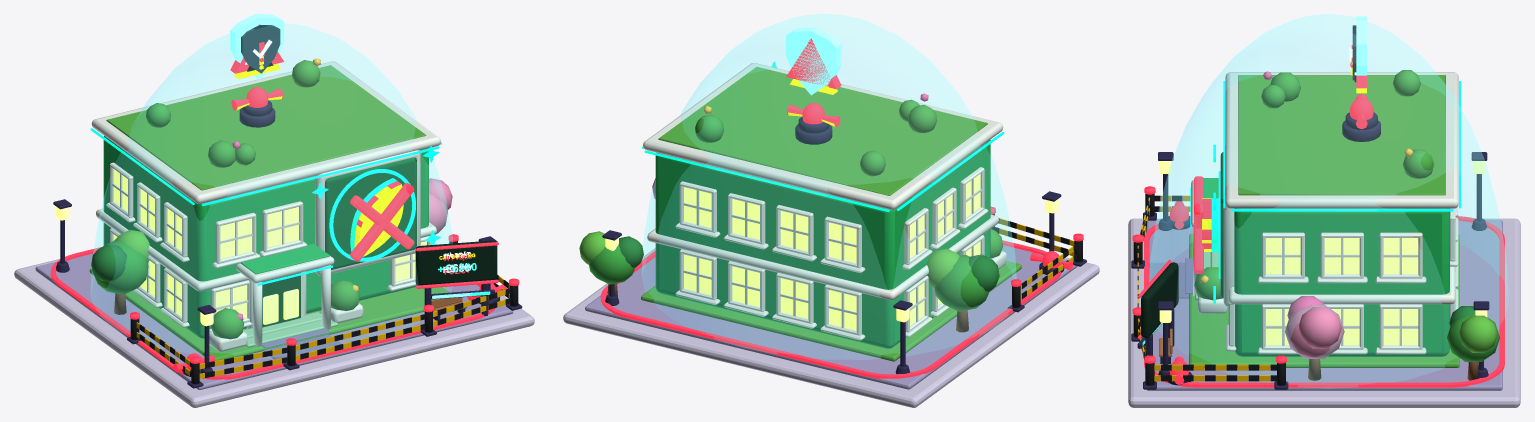
3 views of the same model, side by side, from view 1: azimuth 30°, elevation 25°; view 2: azimuth 150°, elevation 25°; view 3: azimuth 270°, elevation 25° (orthographic). The views are drawn at different scales.
Visible parts, largest first — view 1: B07_state_recovery_shield_dome, B07_wall, B07_plot, B07_windows, B07_logo_leaf, B07_door, B07_state_incident_barrier, B07_props, B07_trees_leaf, B07_state_incident_violation_sign, B07_roof_garden, B07_state_recovery_shield (+4 smaller); view 2: B07_state_recovery_shield_dome, B07_wall, B07_plot, B07_windows, B07_trees_leaf, B07_state_incident_ring, B07_roof_garden, B07_state_recovery_shield, B07_state_incident_barrier, B07_props, B07_state_incident_alarm_sign, B07_state_incident_beacon; view 3: B07_state_recovery_shield_dome, B07_wall, B07_plot, B07_windows, B07_trees_leaf, B07_state_incident_barrier, B07_props, B07_state_incident_ring, B07_roof_garden, B07_logo_leaf, B07_state_incident_violation_sign, B07_state_incident_leaf_red (+5 smaller).
Boxes of the visible parts, <box> form: B07_state_recovery_shield_dome: <box>90,23,452,357</box>; B07_wall: <box>90,61,441,338</box>; B07_plot: <box>14,253,534,407</box>; B07_windows: <box>106,162,431,331</box>; B07_logo_leaf: <box>315,150,420,275</box>; B07_door: <box>236,243,337,347</box>; B07_state_incident_barrier: <box>127,234,522,388</box>; B07_props: <box>53,199,497,373</box>; B07_trees_leaf: <box>91,178,452,294</box>; B07_state_incident_violation_sign: <box>415,240,498,315</box>; B07_roof_garden: <box>146,58,320,167</box>; B07_state_recovery_shield: <box>230,14,284,79</box>; B07_state_recovery_shield_dome: <box>642,14,1016,359</box>; B07_wall: <box>642,63,1004,348</box>; B07_plot: <box>563,245,1099,407</box>; B07_windows: <box>675,167,988,340</box>; B07_trees_leaf: <box>579,178,999,311</box>; B07_state_incident_ring: <box>600,240,1061,378</box>; B07_roof_garden: <box>695,93,937,176</box>; B07_state_recovery_shield: <box>786,27,841,95</box>; B07_state_incident_barrier: <box>990,206,1086,312</box>; B07_props: <box>602,191,1061,374</box>; B07_state_incident_alarm_sign: <box>786,38,841,89</box>; B07_state_incident_beacon: <box>787,103,840,126</box>; B07_state_recovery_shield_dome: <box>1149,14,1508,387</box>; B07_wall: <box>1223,72,1460,356</box>; B07_plot: <box>1128,218,1520,407</box>; B07_windows: <box>1226,206,1458,354</box>; B07_trees_leaf: <box>1284,296,1499,361</box>; B07_state_incident_barrier: <box>1131,186,1288,389</box>; B07_props: <box>1158,152,1489,378</box>; B07_state_incident_ring: <box>1144,216,1504,387</box>; B07_roof_garden: <box>1261,70,1434,178</box>; B07_logo_leaf: <box>1211,145,1234,306</box>; B07_state_incident_violation_sign: <box>1137,259,1178,356</box>; B07_state_incident_leaf_red: <box>1194,176,1211,273</box>.
Size of the model in its own units: 22.07 by 16.77 by 20.
